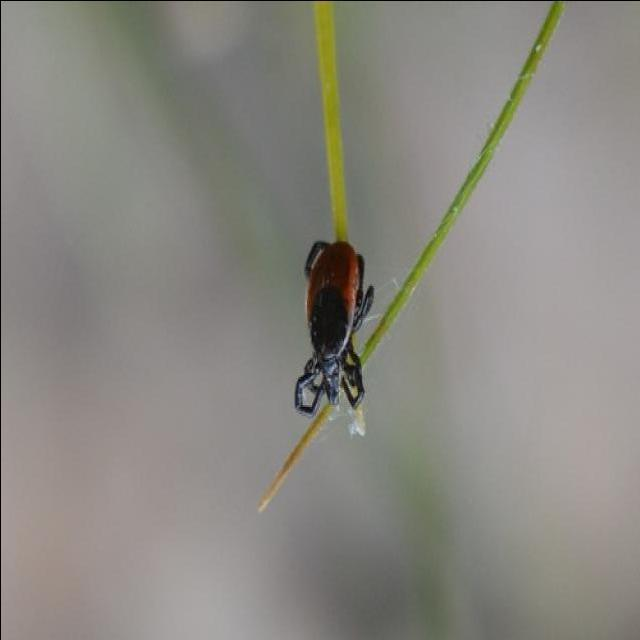Ixodes Ricinus-F: (292, 238, 372, 417)
